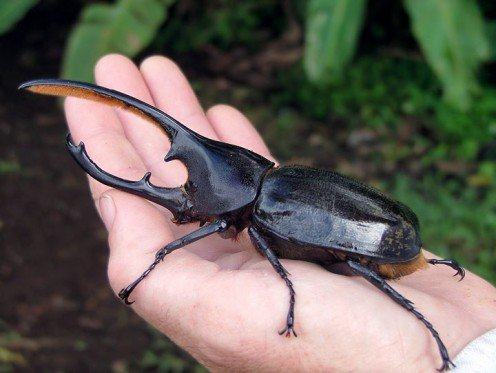coconut rhinoceros beetle: (15, 65, 480, 361)
